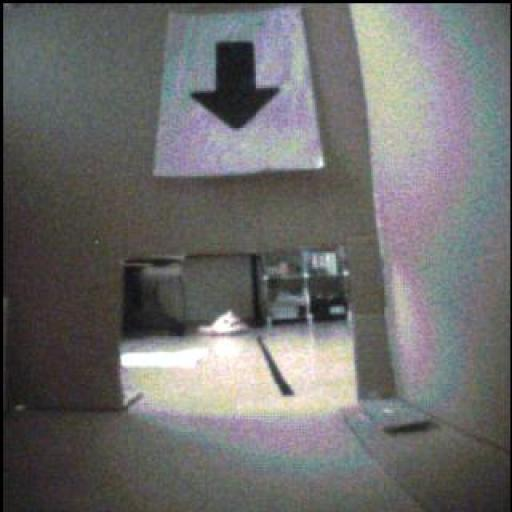arrow: (193, 43, 279, 131)
